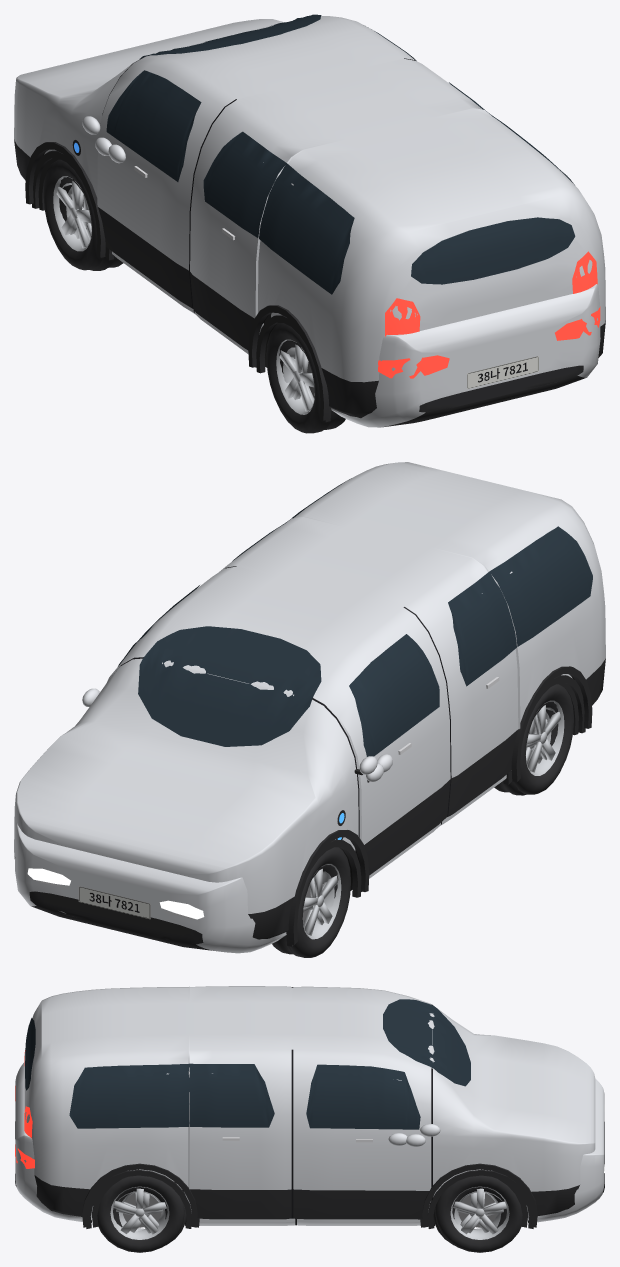
File: cars.glb
The picture shows the model from 3 angles, top to bottom: view 1: azimuth 30°, elevation 25°; view 2: azimuth 150°, elevation 25°; view 3: azimuth 270°, elevation 25°; orthographic projection. The views are drawn at different scales.
Parts seen in each view (by area): view 1: CAR_SUV_Body, CAR_SUV_Glass, CAR_SEDAN_Body, CAR_SEDAN_BlackTrim, CAR_SUV_BlackTrim, CAR_SUV_RL_Tire, CAR_SUV_FL_Tire, CAR_SUV_Taillight, CAR_SUV_FL_Rim, CAR_SEDAN_Taillight, CAR_SUV_RL_Rim, CAR_SEDAN_Plate1; view 2: CAR_SUV_Body, CAR_SUV_Glass, CAR_SEDAN_Body, CAR_SEDAN_BlackTrim, CAR_SUV_BlackTrim, CAR_SUV_FL_Tire, CAR_SUV_RL_Tire, CAR_SUV_RL_Rim, CAR_SUV_FL_Rim, CAR_SEDAN_Plate1, CAR_SEDAN_Headlight; view 3: CAR_SUV_Body, CAR_SUV_Glass, CAR_SEDAN_Body, CAR_SUV_RR_Tire, CAR_SUV_FR_Tire, CAR_SUV_BlackTrim, CAR_SEDAN_BlackTrim, CAR_SUV_RR_Rim, CAR_SUV_FR_Rim, CAR_EV_HATCH_BlackTrim, CAR_EV_HATCH_RR_Rim, CAR_EV_HATCH_FR_Rim (+2 smaller).
Part boxes in pixels (x1=…): CAR_SUV_Body: x1=14, y1=16, x2=605, y2=418; CAR_SUV_Glass: x1=106, y1=14, x2=575, y2=294; CAR_SEDAN_Body: x1=21, y1=149, x2=600, y2=427; CAR_SEDAN_BlackTrim: x1=32, y1=150, x2=583, y2=422; CAR_SUV_BlackTrim: x1=25, y1=140, x2=328, y2=420; CAR_SUV_RL_Tire: x1=266, y1=323, x2=343, y2=433; CAR_SUV_FL_Tire: x1=43, y1=159, x2=103, y2=270; CAR_SUV_Taillight: x1=385, y1=251, x2=597, y2=336; CAR_SUV_FL_Rim: x1=53, y1=176, x2=91, y2=251; CAR_SEDAN_Taillight: x1=378, y1=306, x2=600, y2=378; CAR_SUV_RL_Rim: x1=276, y1=339, x2=314, y2=414; CAR_SEDAN_Plate1: x1=467, y1=356, x2=538, y2=388; CAR_SUV_Body: x1=14, y1=462, x2=605, y2=939; CAR_SUV_Glass: x1=118, y1=478, x2=592, y2=756; CAR_SEDAN_Body: x1=15, y1=674, x2=572, y2=953; CAR_SEDAN_BlackTrim: x1=29, y1=675, x2=585, y2=946; CAR_SUV_BlackTrim: x1=288, y1=666, x2=592, y2=945; CAR_SUV_FL_Tire: x1=274, y1=847, x2=350, y2=957; CAR_SUV_RL_Tire: x1=514, y1=684, x2=573, y2=794; CAR_SUV_RL_Rim: x1=525, y1=700, x2=564, y2=775; CAR_SUV_FL_Rim: x1=302, y1=864, x2=341, y2=938; CAR_SEDAN_Plate1: x1=78, y1=886, x2=150, y2=919; CAR_SEDAN_Headlight: x1=27, y1=868, x2=204, y2=919; CAR_SUV_Body: x1=24, y1=986, x2=595, y2=1219; CAR_SUV_Glass: x1=25, y1=999, x2=470, y2=1129; CAR_SEDAN_Body: x1=15, y1=1062, x2=604, y2=1225; CAR_SUV_RR_Tire: x1=97, y1=1175, x2=184, y2=1252; CAR_SUV_FR_Tire: x1=435, y1=1175, x2=522, y2=1252; CAR_SUV_BlackTrim: x1=82, y1=1163, x2=537, y2=1227; CAR_SEDAN_BlackTrim: x1=15, y1=1121, x2=604, y2=1228; CAR_SUV_RR_Rim: x1=110, y1=1186, x2=169, y2=1239; CAR_SUV_FR_Rim: x1=450, y1=1186, x2=509, y2=1239; CAR_EV_HATCH_BlackTrim: x1=92, y1=1177, x2=527, y2=1227; CAR_EV_HATCH_RR_Rim: x1=119, y1=1191, x2=164, y2=1232; CAR_EV_HATCH_FR_Rim: x1=455, y1=1191, x2=500, y2=1232.
Bounding box in the file's own units: 2.1 × 1.72 × 4.87.
Materials: 15 (3 with a texture image).
